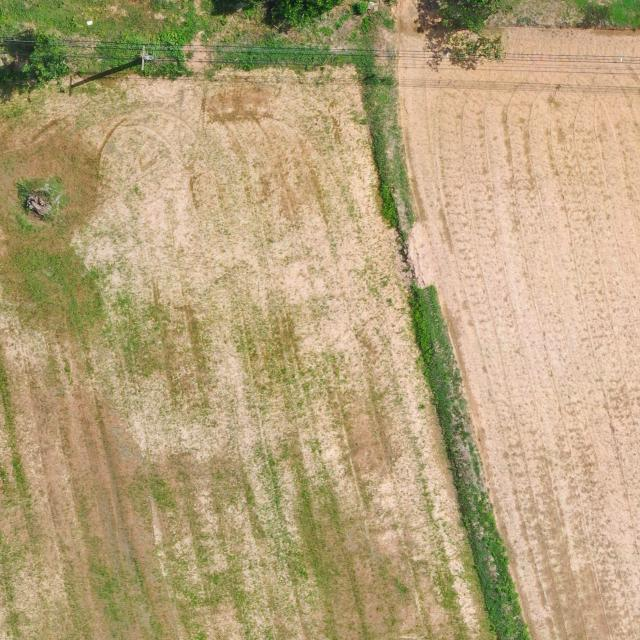Tree: (442, 0, 516, 65), (21, 32, 68, 87)
